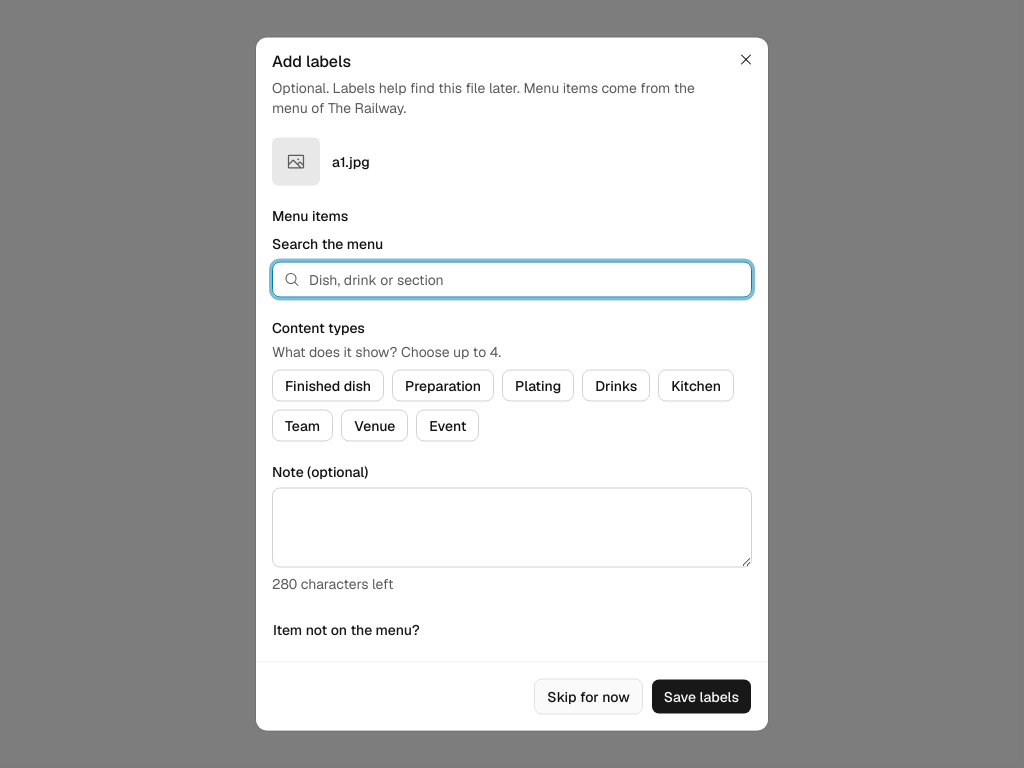
Test: LabelEditorDialog: search and selection › asks which variant, including not specified, and marks added ones
The image size is (1024, 768).
Type "tikka" into the dropdown at point(512, 280), box [272,262,752,298]
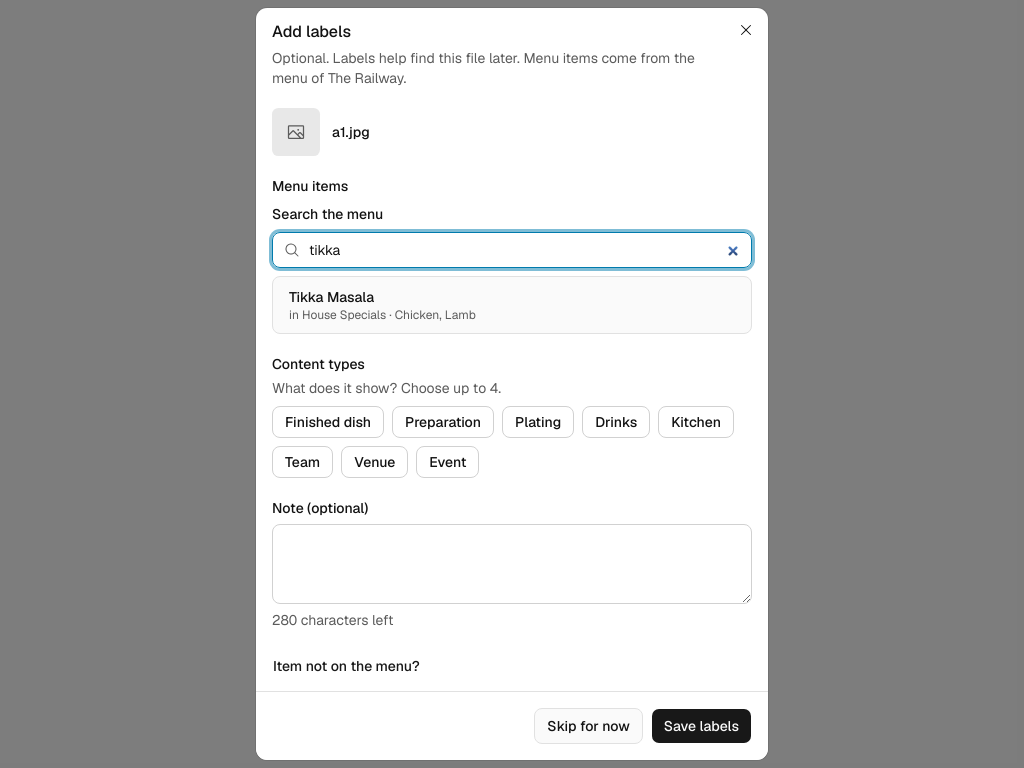
Click the option "Tikka Masala in House Specials · Chicken, Lamb" at point(382, 306), box [289,288,476,323]
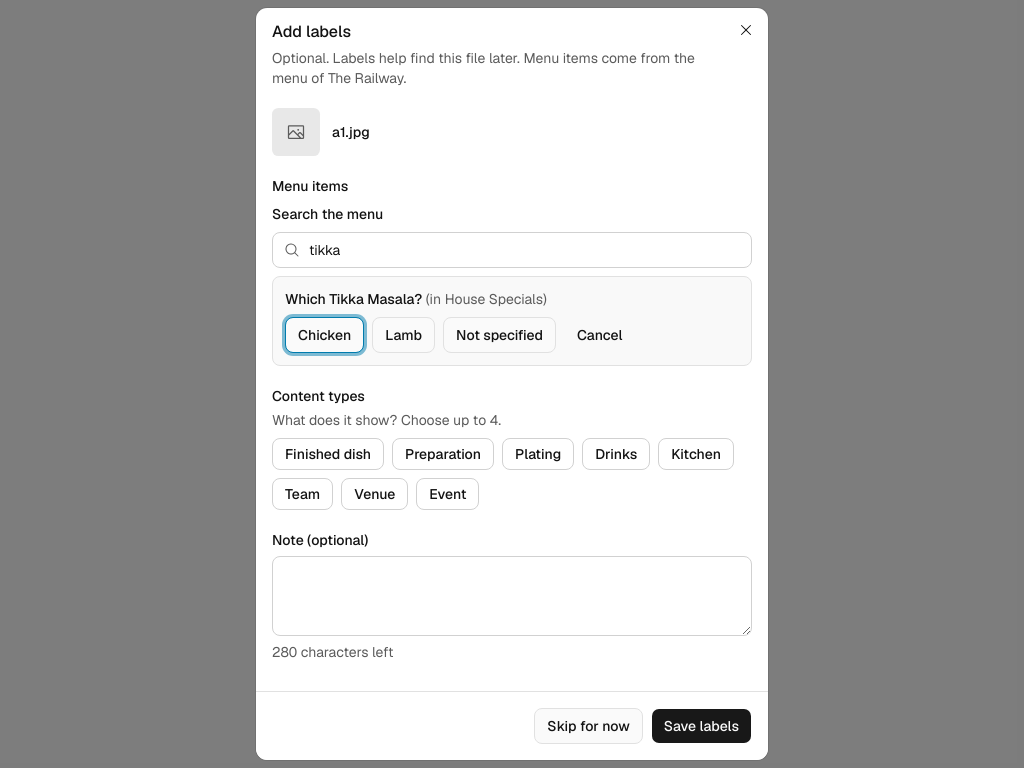
Click the button "Lamb" at point(404, 335), box [372,317,435,353]
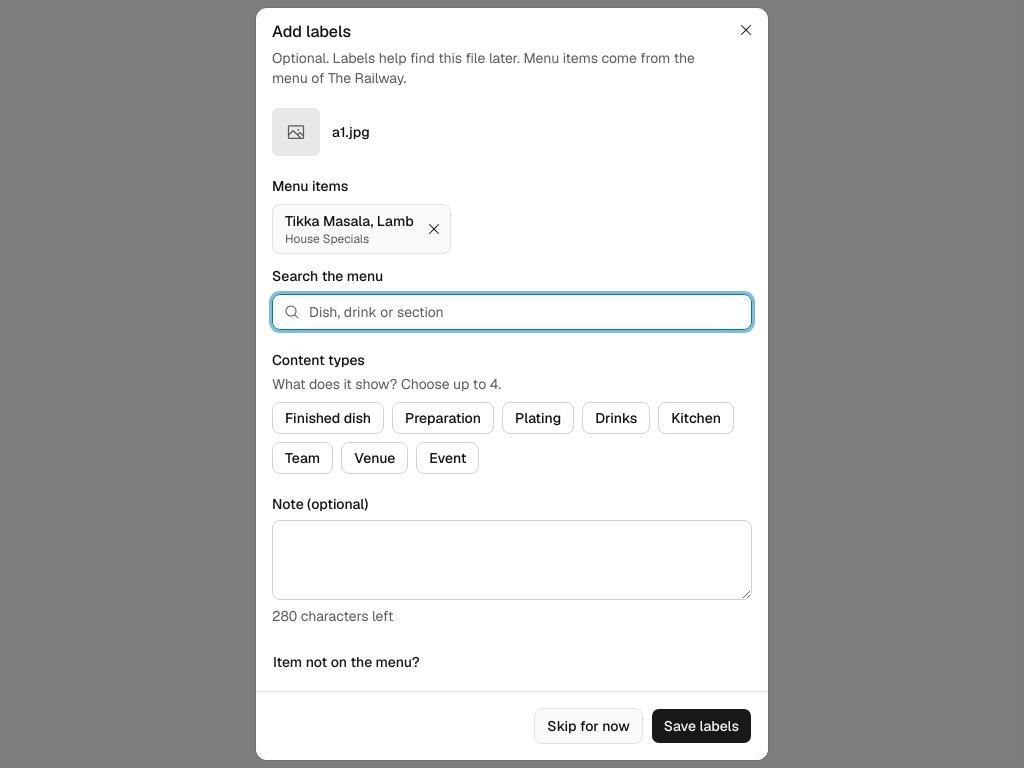
Now the button named "Remove Tikka Masala, Lamb" is shown, box [418,213,450,245]
Type "tikka" into the dropdown at point(512, 312), box [272,294,752,330]
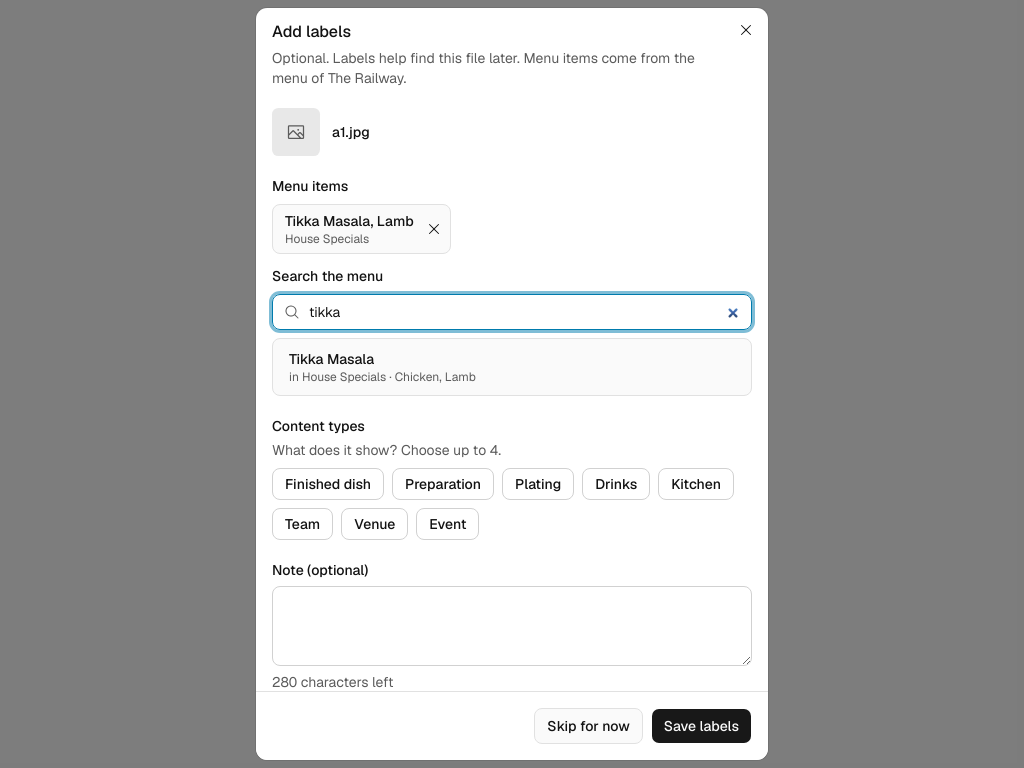
Click the option "Tikka Masala in House Specials · Chicken, Lamb" at point(382, 368), box [289,350,476,385]
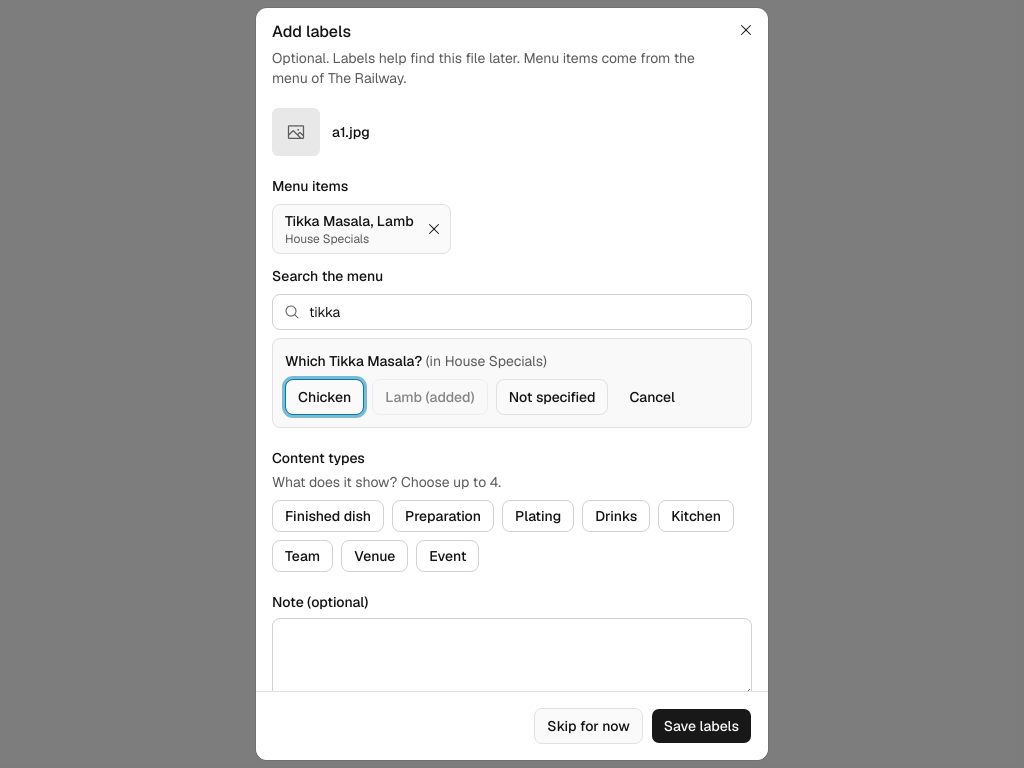
Now the button "Lamb (added)" is disabled, box [372,379,488,415]
Click the button "Not specified" at point(552, 397), box [496,379,608,415]
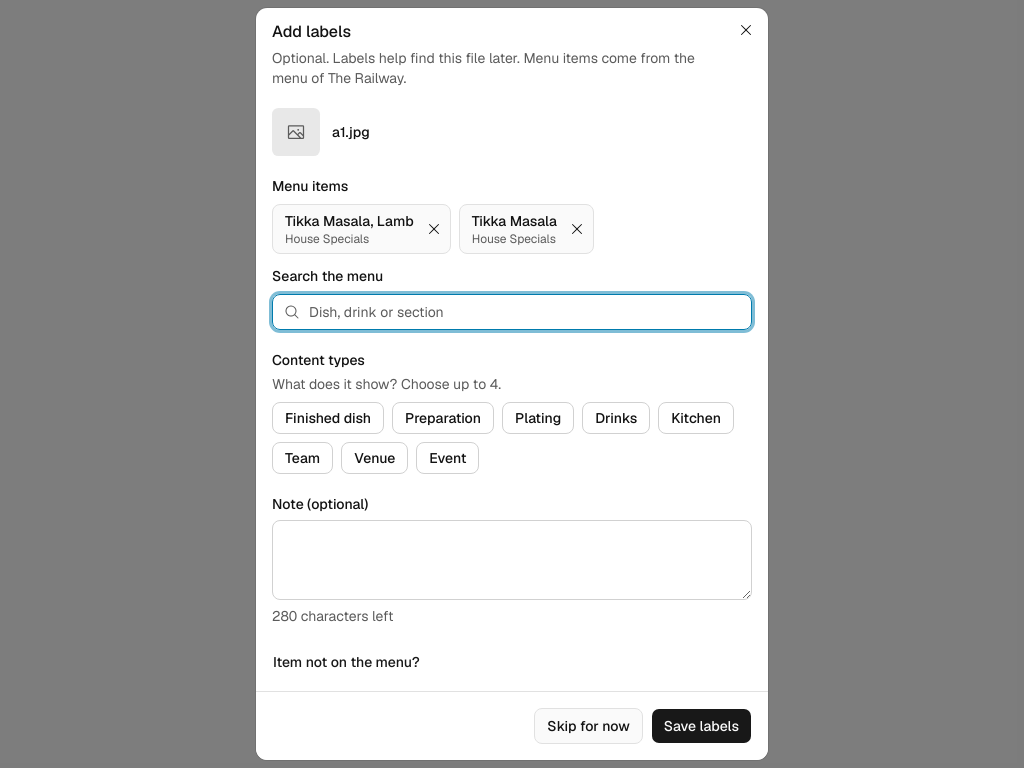
Now the button named "Remove Tikka Masala" is shown, box [561,213,593,245]
